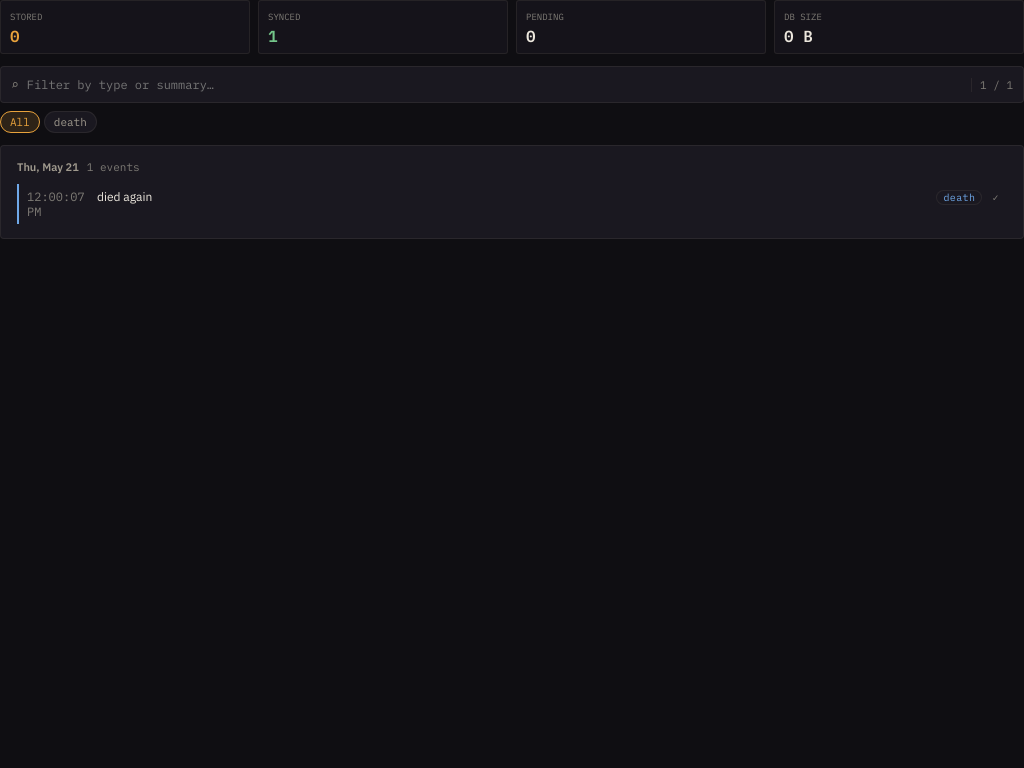
Scenario: LogsPane › dismisses the drawer when Escape is pressed
Click the text "died again".
click(125, 196)  # box [97,189,152,204]
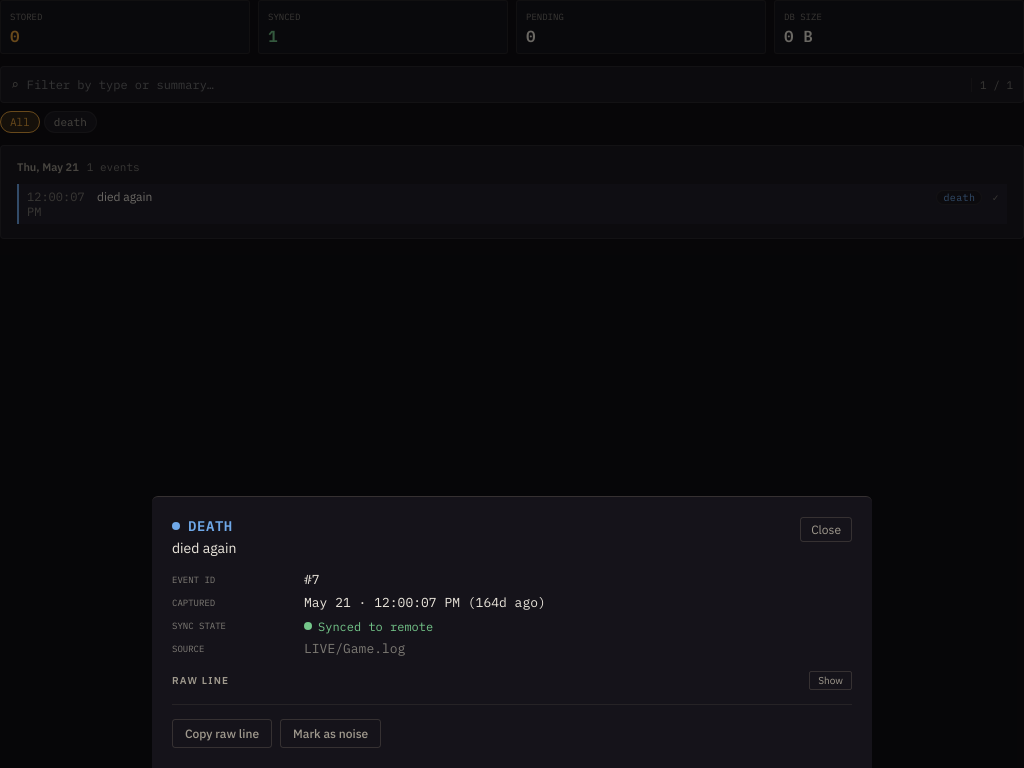
expect the dialog is shown: met, box [152,496,872,767]
Press Escape
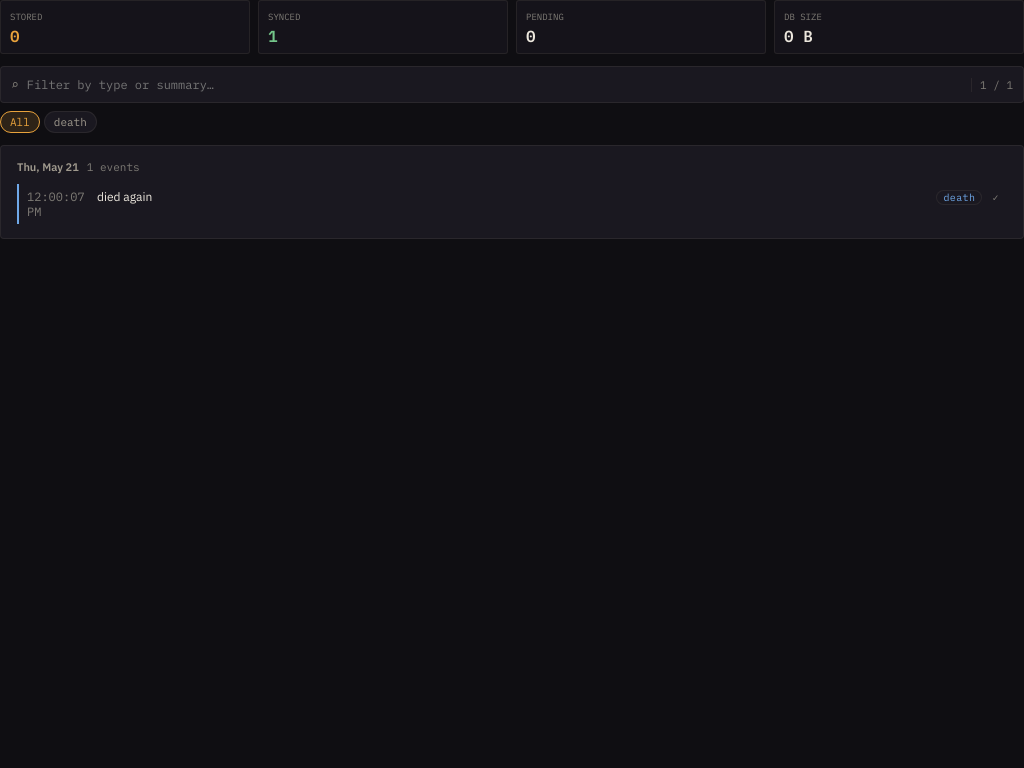
expect the dialog is gone: met
